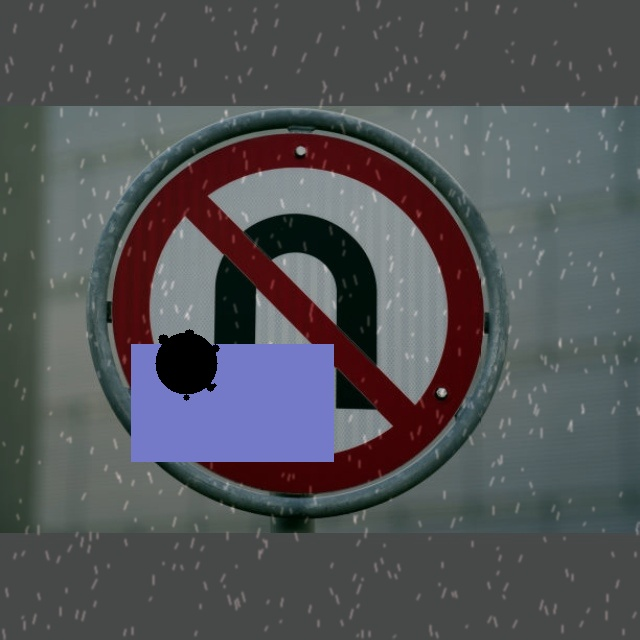U_Turn_Prohibited: (89, 105, 493, 512)
